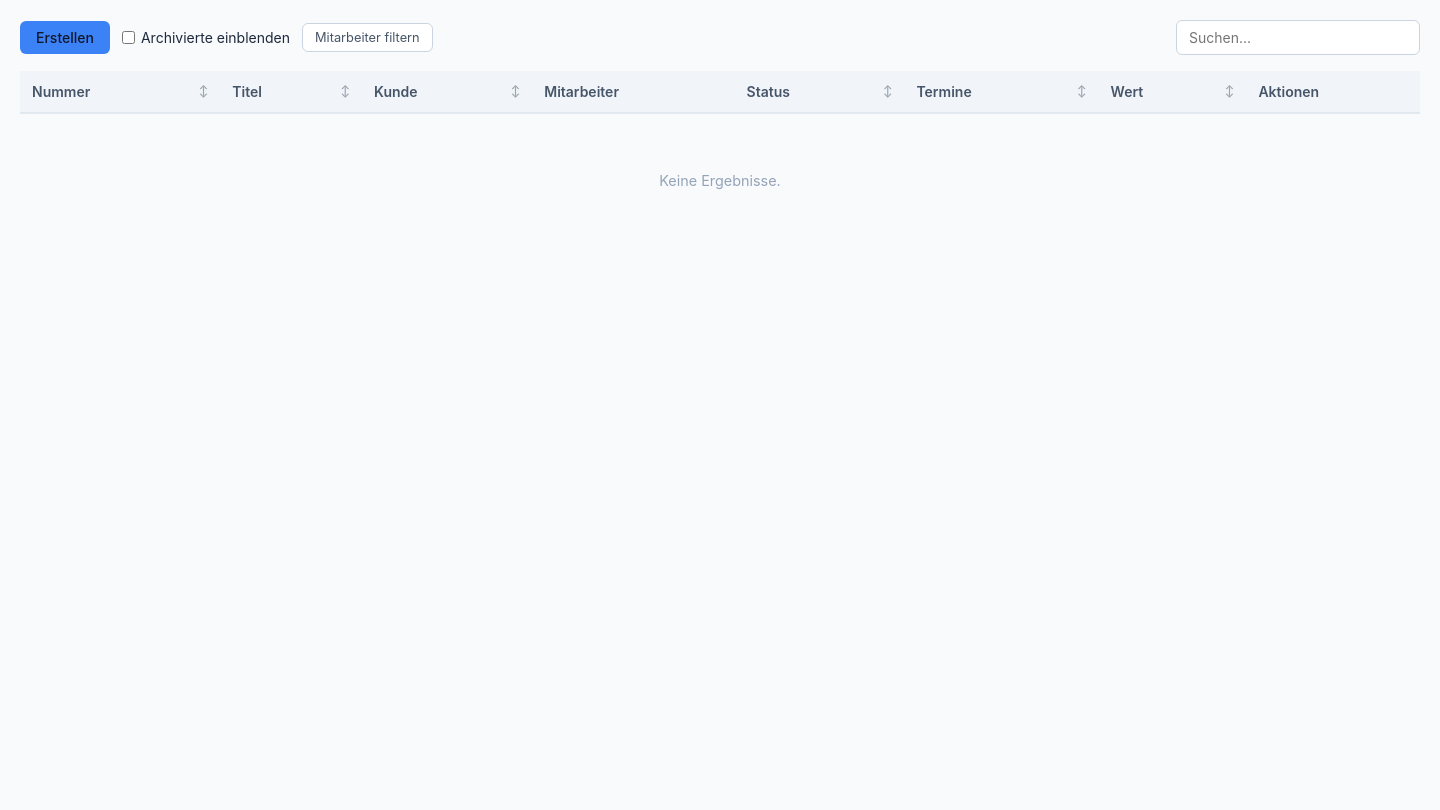
it: ProjectCreateForm — Baustelle group (AC-280, create branch) › renders the Baustelle group label, the toggle, and street/zip/city inputs
Click the button with test id "project-create-button". click: (65, 38)
box: [20,21,110,54]
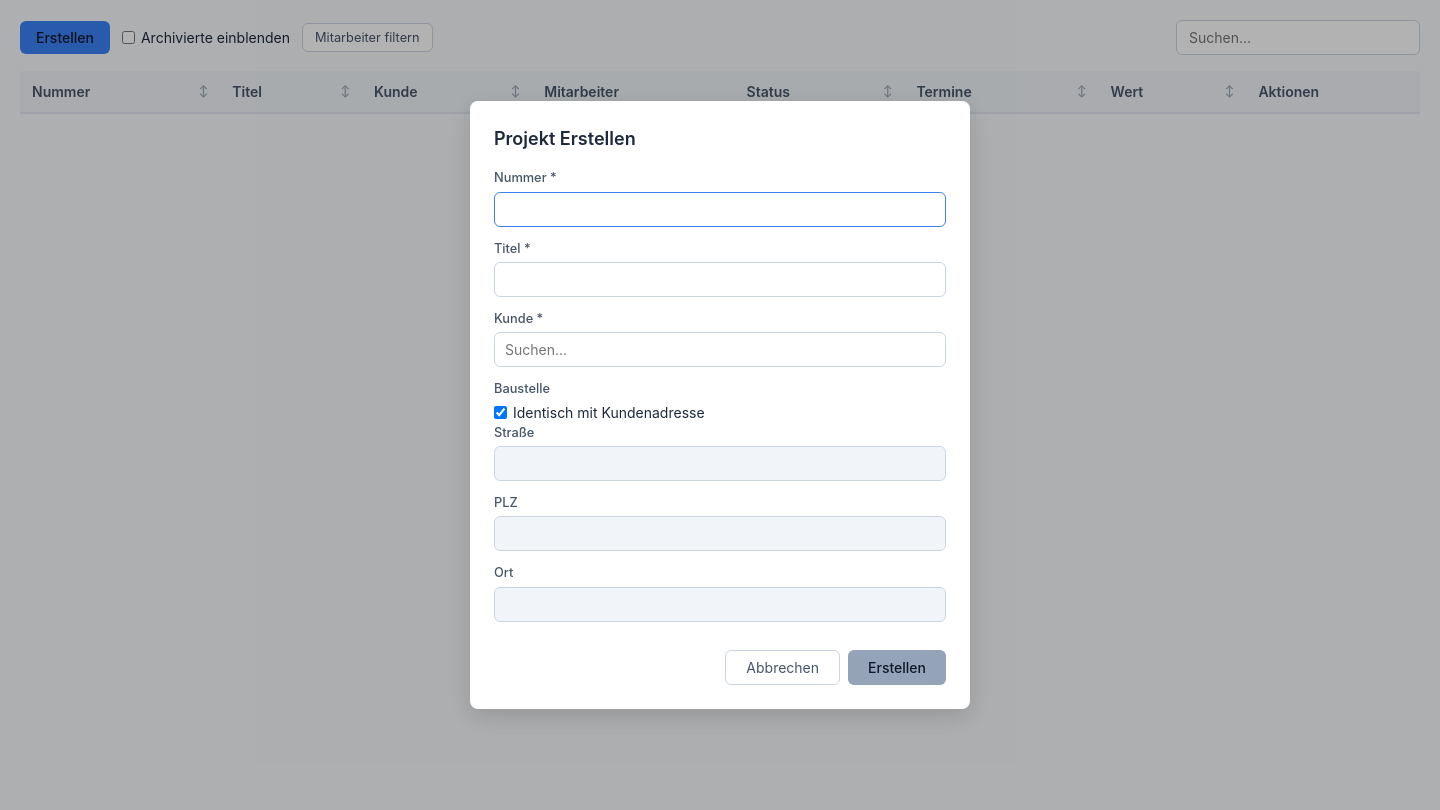
Expected: the text "Baustelle" is shown, [494,379,550,398]
Expected: the checkbox labelled "Identisch mit Kundenadresse" is shown, [494,406,507,419]
Expected: the field with test id "project-site-street-input" is shown, [494,446,946,481]
